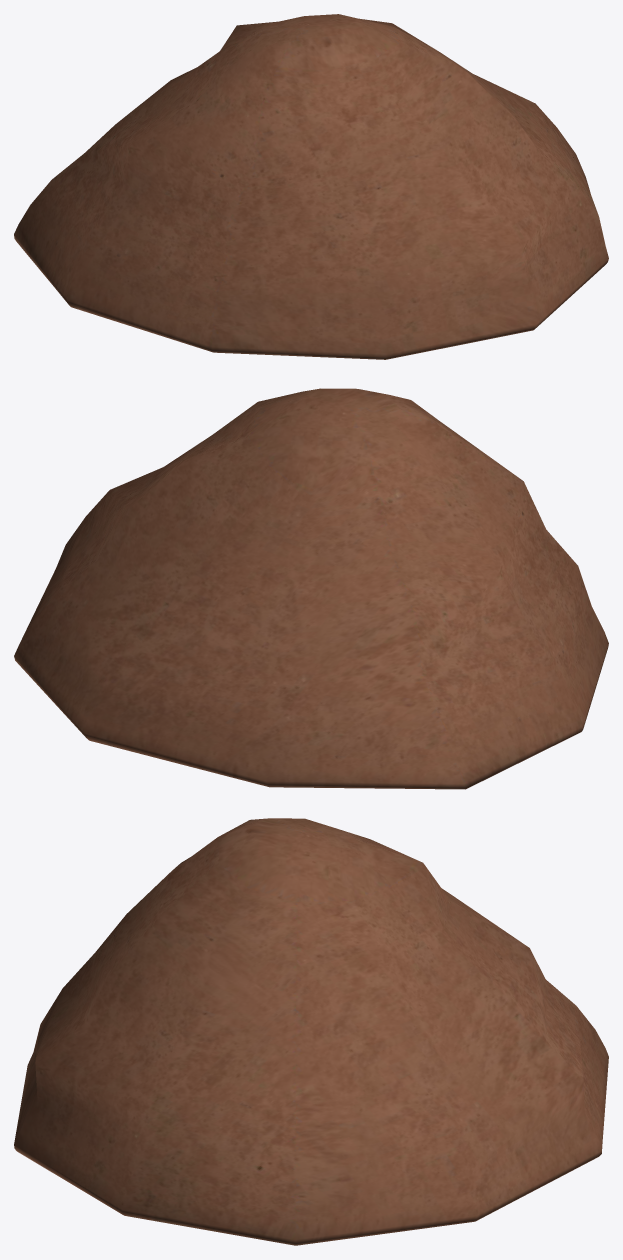
Rendered from Ingredients_Soil.fbx.
3 views of the same model, one above another, from view 1: azimuth 30°, elevation 25°; view 2: azimuth 150°, elevation 25°; view 3: azimuth 270°, elevation 25° (orthographic). The views are drawn at different scales.
Parts seen in each view (by area): view 1: pSphere2; view 2: pSphere2; view 3: pSphere2.
Boxes of the visible parts, x1,y1,x2,y2 form: pSphere2: (14,14,608,359); pSphere2: (14,388,608,789); pSphere2: (14,818,608,1245).
Size of the model in its own units: 2.61 by 1.23 by 2.36.
Materials: 1 (1 with a texture image).
